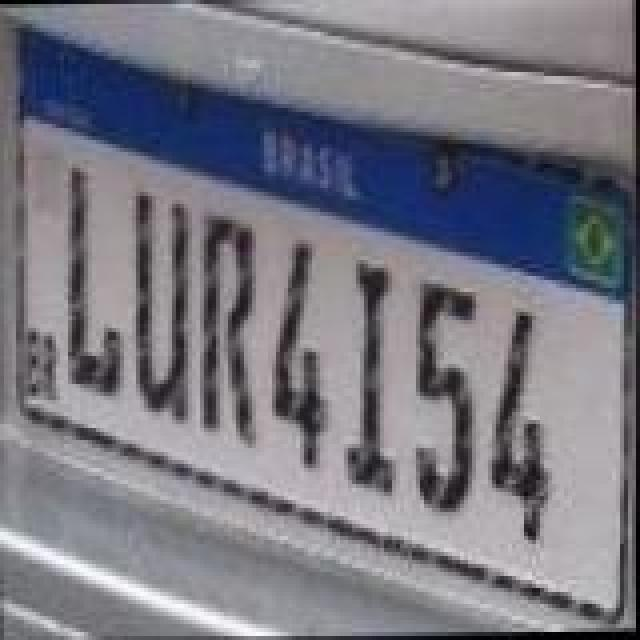4: (486, 302, 554, 546), (270, 236, 334, 472)
5: (414, 274, 482, 518)
I: (342, 252, 402, 504)
L: (64, 162, 124, 406)
R: (196, 210, 264, 454)
U: (132, 188, 192, 432)
